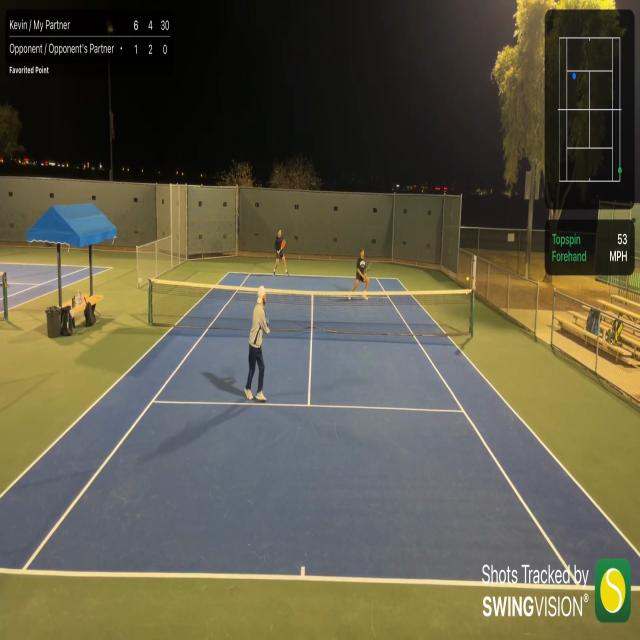ball: (572, 72, 576, 80), (466, 275, 468, 281)
